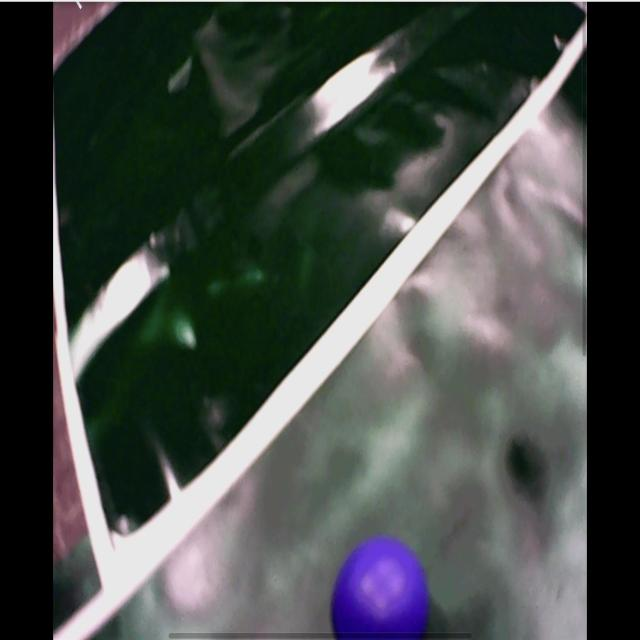ball: (332, 539, 429, 639)
